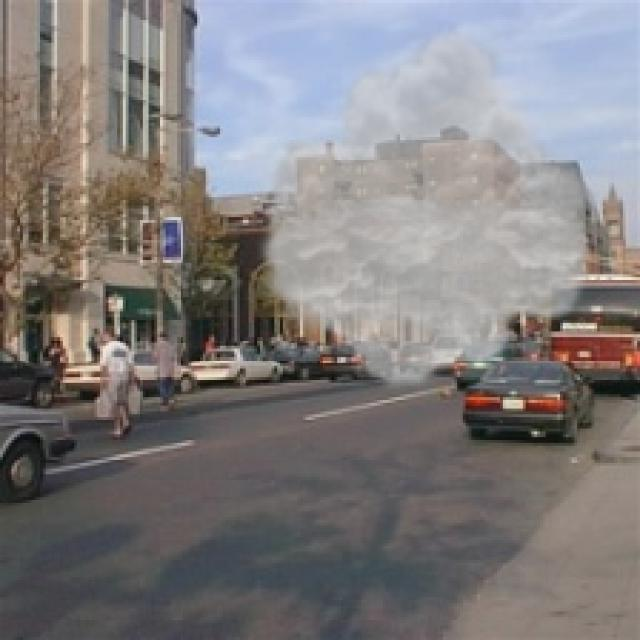Smoke: (251, 22, 603, 392)
